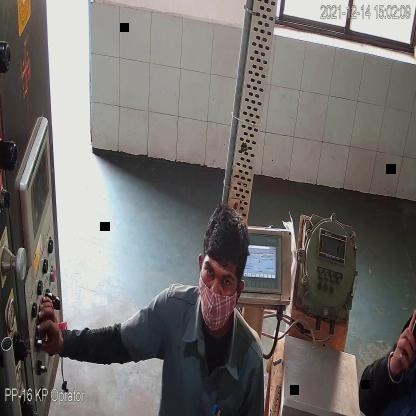no_goggles: (202, 258, 236, 294)
